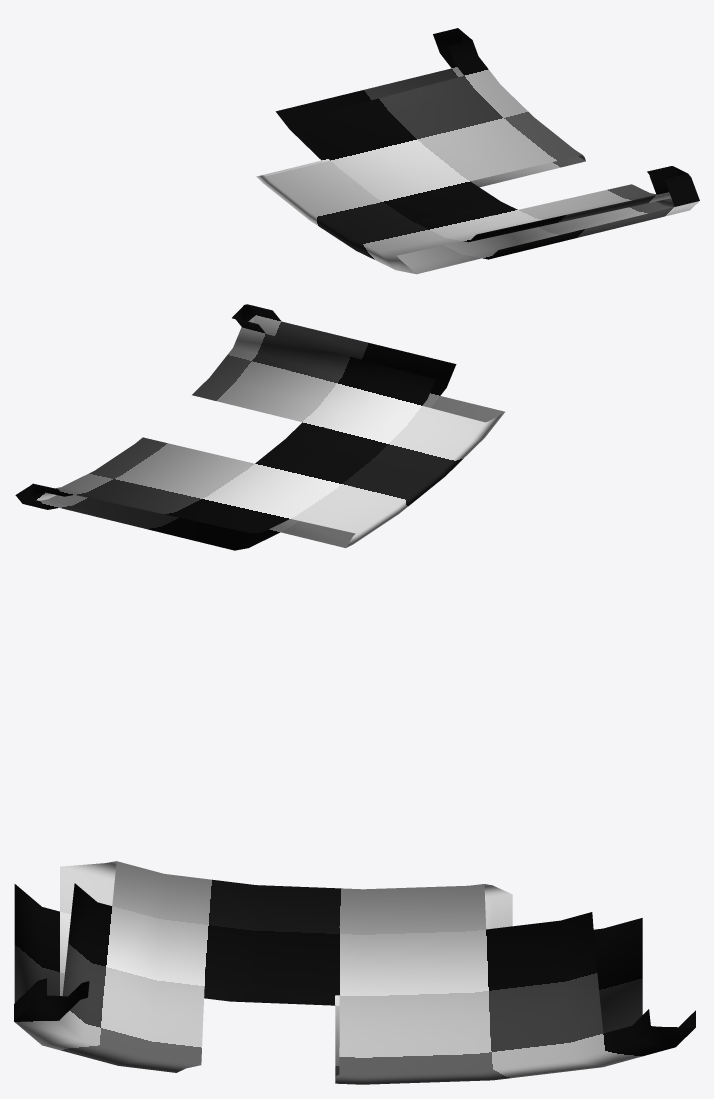
The model's file is MPBrassard_WorldItem.fbx.
3 renders of one model, top to bottom at view 1: azimuth 30°, elevation 25°; view 2: azimuth 150°, elevation 25°; view 3: azimuth 270°, elevation 25°, orthographic. The views are drawn at different scales.
Parts seen in each view (by area): view 1: Circle_Circle.001; view 2: Circle_Circle.001; view 3: Circle_Circle.001.
Boxes of the visible parts, <box> form: Circle_Circle.001: <box>256,28,699,274</box>; Circle_Circle.001: <box>15,304,504,550</box>; Circle_Circle.001: <box>14,861,695,1084</box>.
Size of the model in its own units: 0.3697 by 0.059 by 0.2951.
